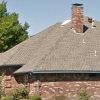Chimney: (62, 0, 89, 33)
